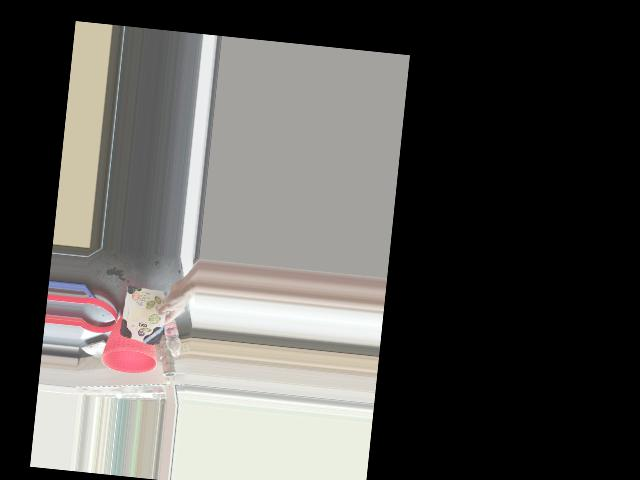cheese: (119, 290, 178, 347)
